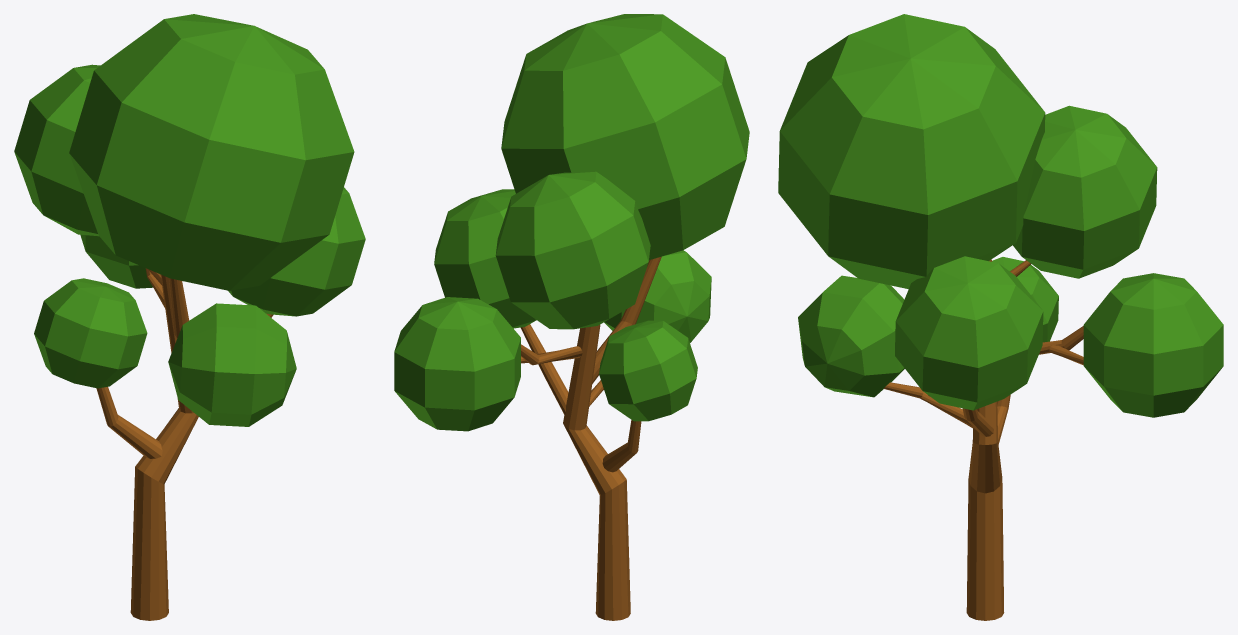
File: OakStage4.fbx
3 views of the same model, side by side, from view 1: azimuth 30°, elevation 25°; view 2: azimuth 150°, elevation 25°; view 3: azimuth 270°, elevation 25° (orthographic). The views are drawn at different scales.
Visible parts, largest first — view 1: OakStage4; view 2: OakStage4; view 3: OakStage4.
Boxes of the visible parts, x1,y1,x2,y2 form: OakStage4: (14, 14, 365, 620); OakStage4: (394, 14, 749, 620); OakStage4: (778, 14, 1223, 620).
Size of the model in its own units: 264 by 516 by 351.
